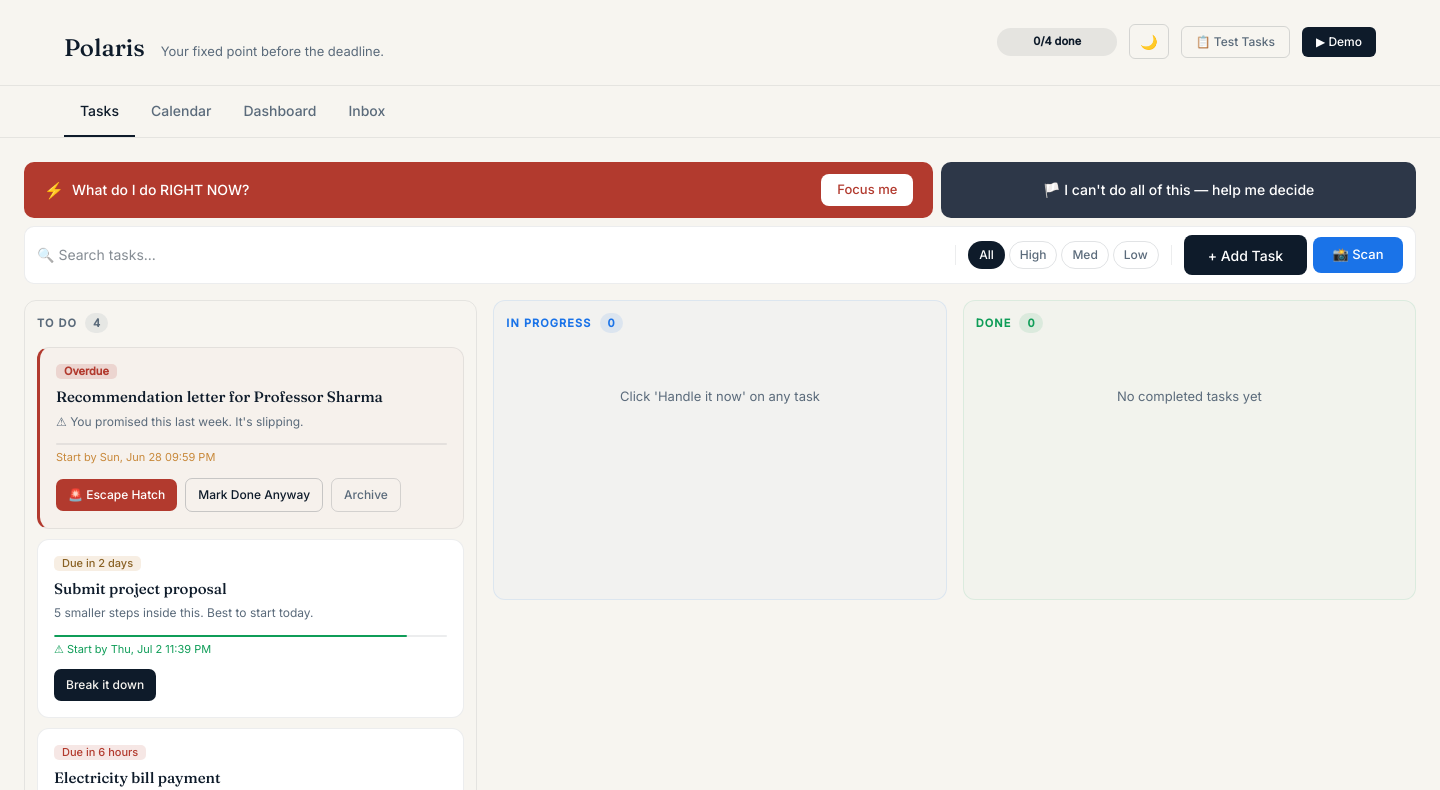
Scenario: Module 13: Overdue Task Lifecycle › Mark Done Anyway increases recovery to 100%
Click the button "Mark Done Anyway". click: click(254, 495)
box: [185,478,323,512]
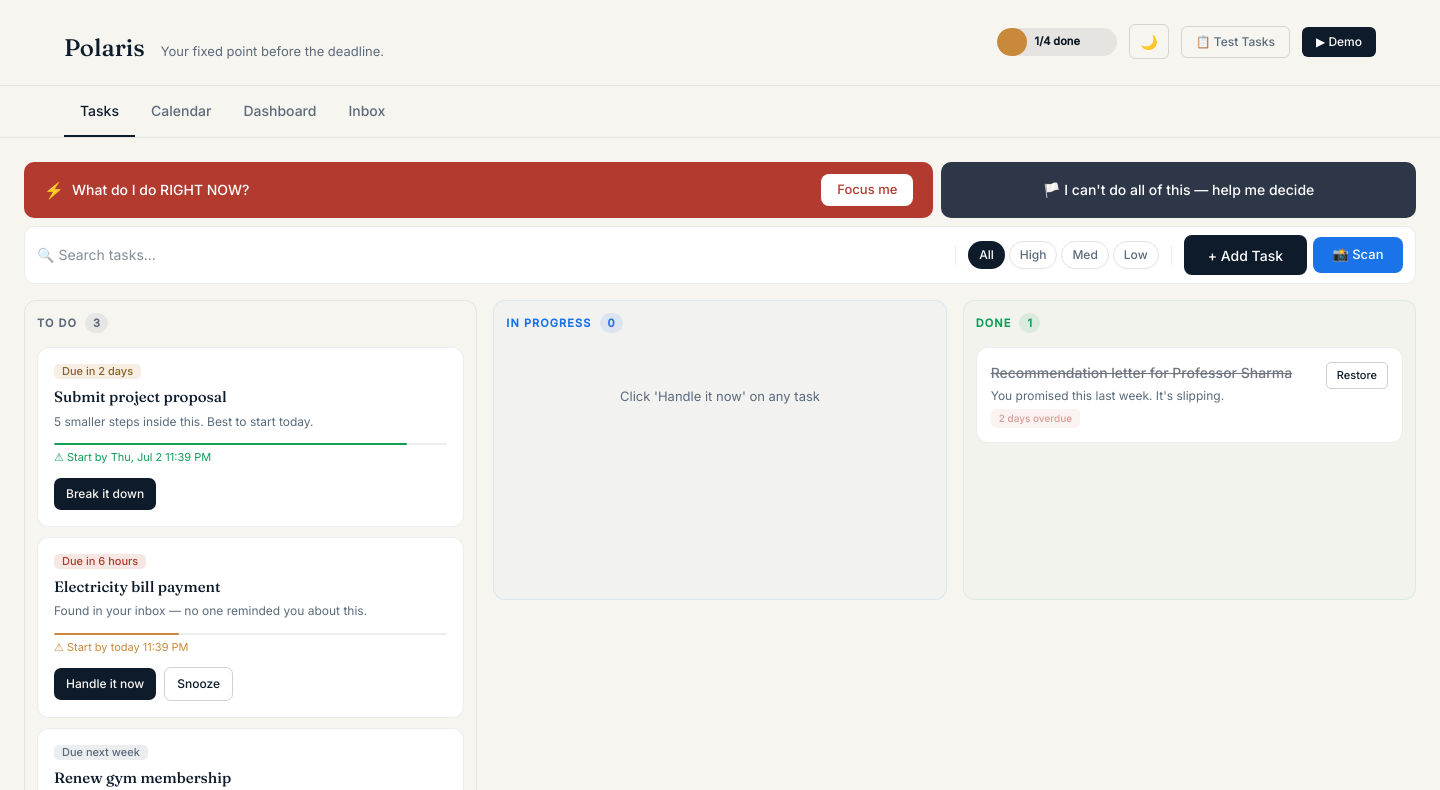
Click the button "Dashboard". click: click(280, 112)
box: [227,86,332,137]
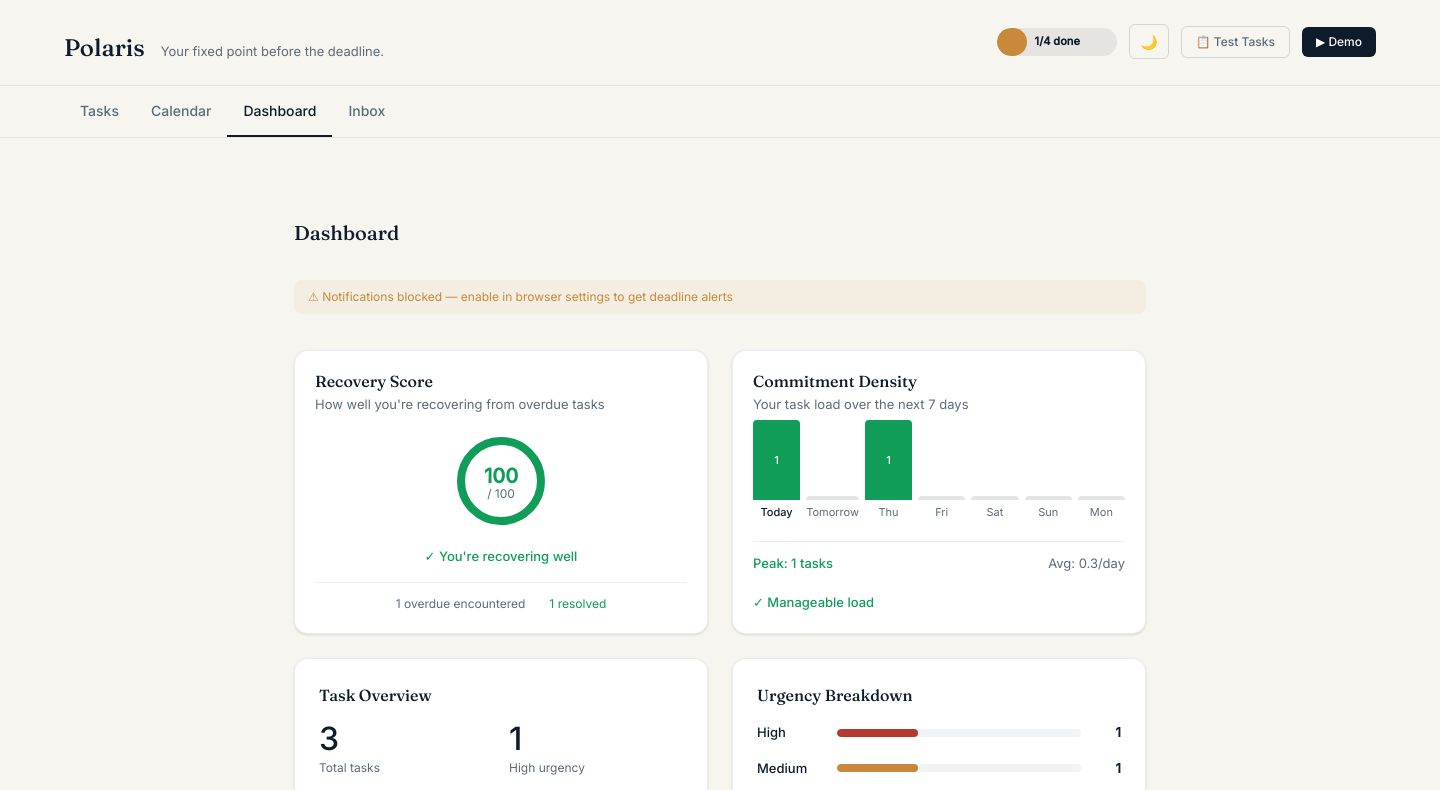
Check: the text "100" is shown, box [484,466,518,486]
Check: the text "✓ You're recovering well" is shown, box [425,548,577,564]
Check: the text "1 resolved" is shown, box [549,595,606,613]
